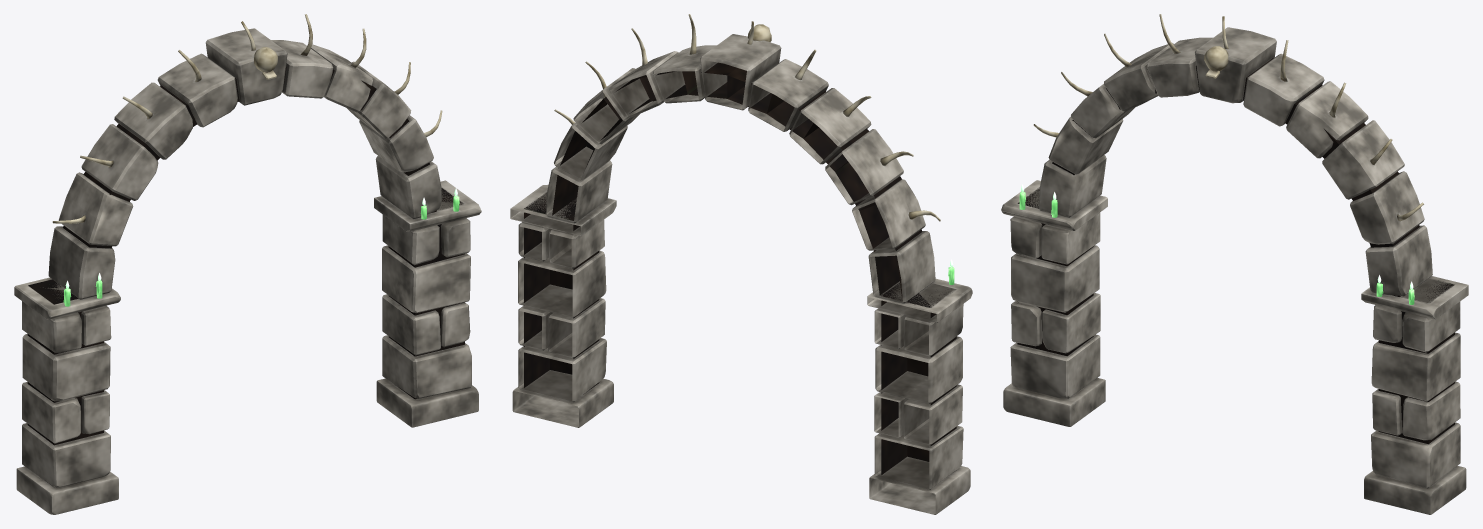
The model's file is Ossuary_Arch.fbx.
3 views of the same model, side by side, from view 1: azimuth 30°, elevation 25°; view 2: azimuth 150°, elevation 25°; view 3: azimuth 330°, elevation 25° (orthographic).
Parts seen in each view (by area): view 1: Ossuary_Arch; view 2: Ossuary_Arch; view 3: Ossuary_Arch.
Boxes of the visible parts, x1,y1,x2,y2 form: Ossuary_Arch: [14, 14, 481, 514]; Ossuary_Arch: [510, 14, 972, 514]; Ossuary_Arch: [1001, 14, 1468, 514].
Size of the model in its own units: 6.06 by 5.82 by 1.05.
